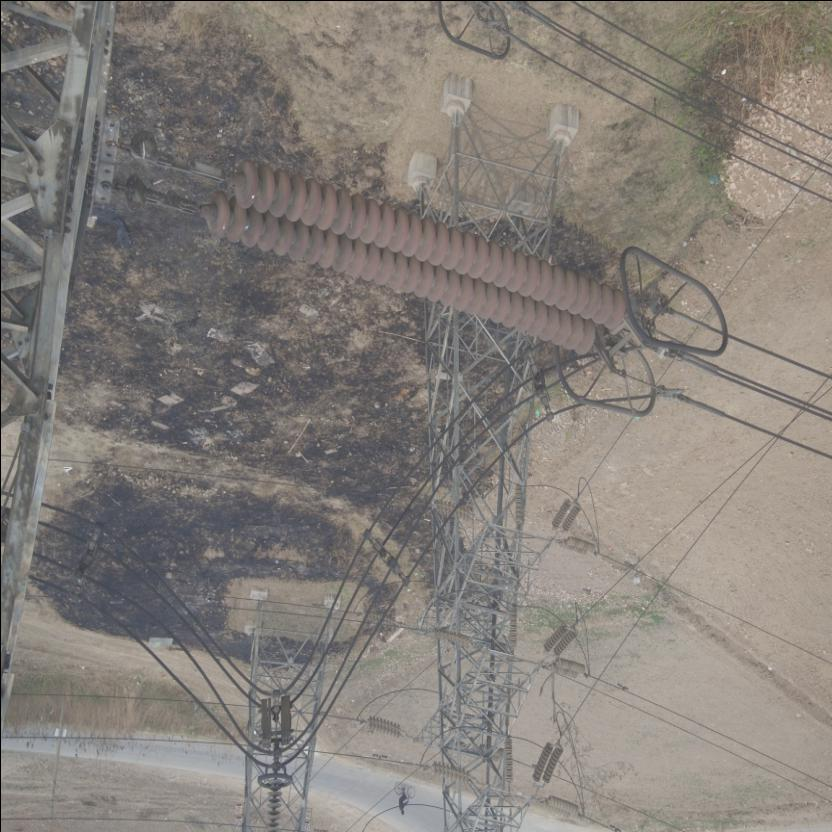insulator: (184, 156, 634, 358)
